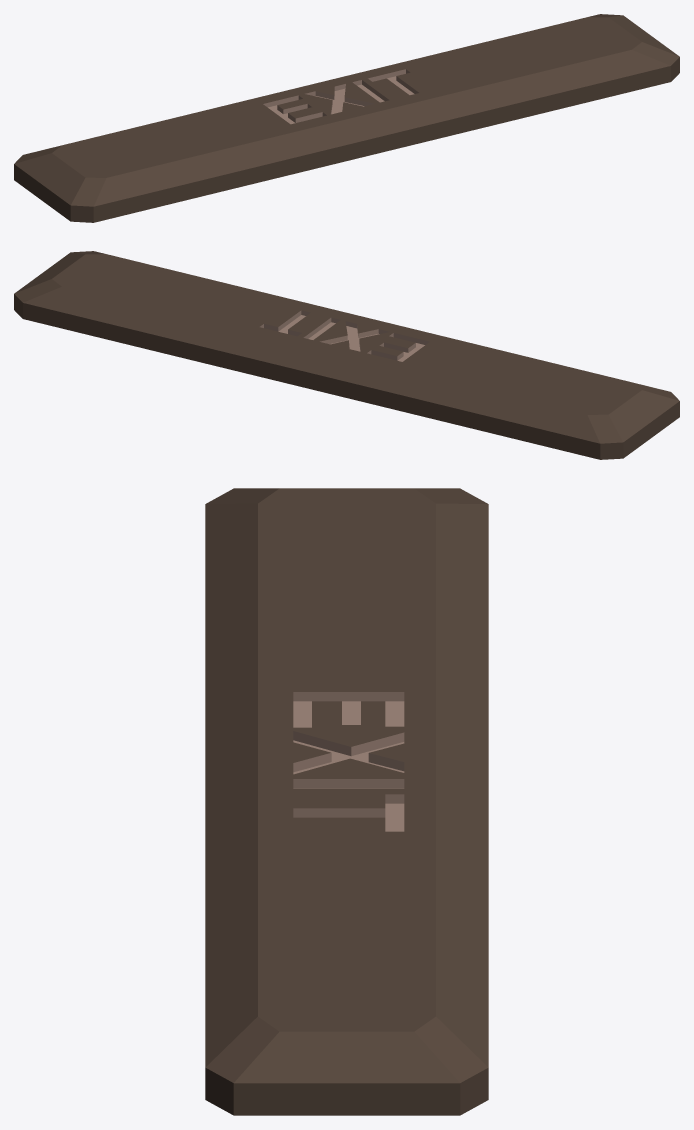
The model's file is ExitButton.fbx.
The picture shows the model from 3 angles, top to bottom: view 1: azimuth 30°, elevation 25°; view 2: azimuth 150°, elevation 25°; view 3: azimuth 270°, elevation 25°; orthographic projection. The views are drawn at different scales.
Visible parts, largest first — view 1: button.003; view 2: button.003; view 3: button.003.
Boxes of the visible parts, x1,y1,x2,y2 form: button.003: (14,14,679,222); button.003: (14,251,679,459); button.003: (205,488,488,1115).
Bounding box in the file's own units: 1097 × 50 × 221.
